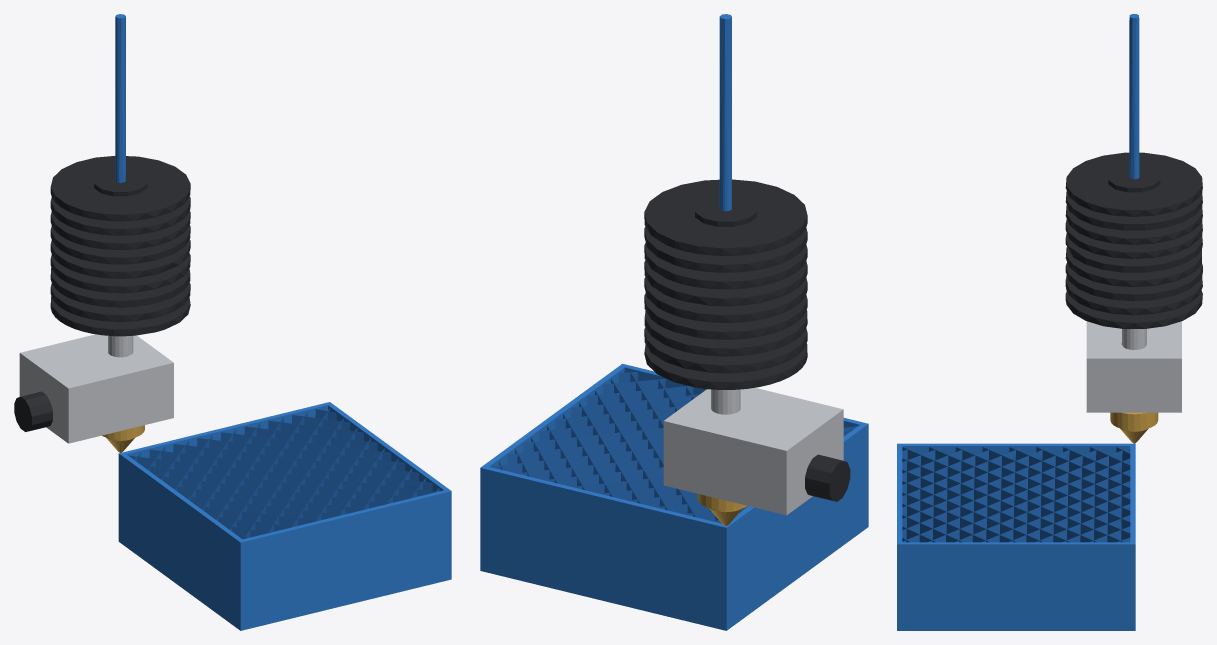
Rendered from impresion.glb.
3 renders of one model, left to right at view 1: azimuth 30°, elevation 25°; view 2: azimuth 150°, elevation 25°; view 3: azimuth 270°, elevation 25°, orthographic. The views are drawn at different scales.
Parts seen in each view (by area): view 1: Base y paredes, Disipador, Relleno en rejilla, Bloque calefactor, Filamento de 1,75 mm, Cartucho calefactor; view 2: Base y paredes, Disipador, Bloque calefactor, Relleno en rejilla, Filamento de 1,75 mm, Cartucho calefactor, Boquilla, Garganta; view 3: Base y paredes, Disipador, Relleno en rejilla, Bloque calefactor, Filamento de 1,75 mm, Boquilla, Garganta.
Part boxes in pixels (left/top/right/bottom): Base y paredes: left=118, top=402, right=451, bottom=630; Disipador: left=50, top=156, right=190, bottom=336; Relleno en rejilla: left=128, top=408, right=439, bottom=539; Bloque calefactor: left=19, top=334, right=173, bottom=443; Filamento de 1,75 mm: left=115, top=14, right=125, bottom=182; Cartucho calefactor: left=14, top=391, right=52, bottom=431; Base y paredes: left=480, top=363, right=868, bottom=630; Disipador: left=644, top=179, right=807, bottom=389; Bloque calefactor: left=663, top=388, right=843, bottom=515; Relleno en rejilla: left=491, top=370, right=857, bottom=523; Filamento de 1,75 mm: left=719, top=14, right=731, bottom=211; Cartucho calefactor: left=805, top=454, right=850, bottom=501; Boquilla: left=697, top=494, right=747, bottom=526; Garganta: left=711, top=389, right=740, bottom=414; Base y paredes: left=897, top=443, right=1135, bottom=630; Disipador: left=1065, top=152, right=1202, bottom=328; Relleno en rejilla: left=902, top=447, right=1130, bottom=542; Bloque calefactor: left=1086, top=321, right=1181, bottom=412; Filamento de 1,75 mm: left=1129, top=14, right=1139, bottom=179; Boquilla: left=1110, top=412, right=1158, bottom=443; Garganta: left=1121, top=329, right=1146, bottom=349.
Bounding box in the file's own units: 0.0583 × 0.0952 × 0.0513.
